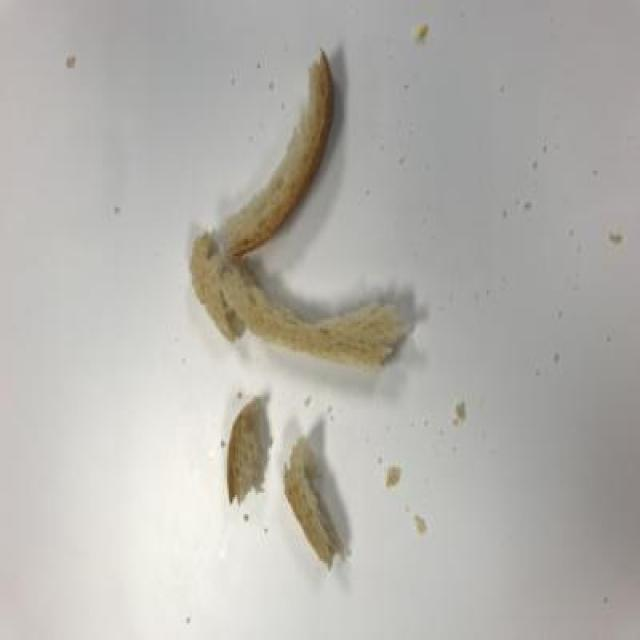compost: (165, 51, 424, 573)
